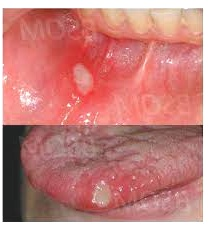Ulcer: (69, 59, 98, 92), (93, 173, 118, 210)
